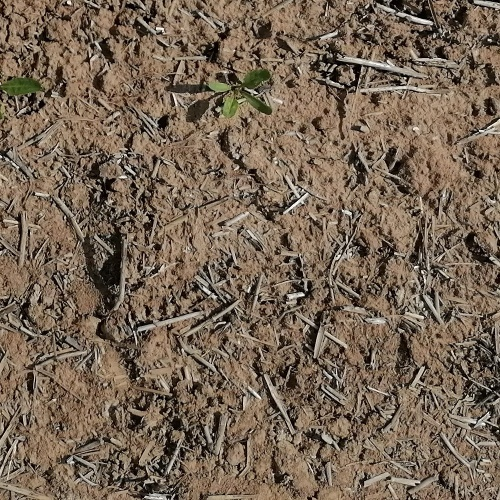beet: (208, 68, 274, 117), (0, 75, 46, 96)
